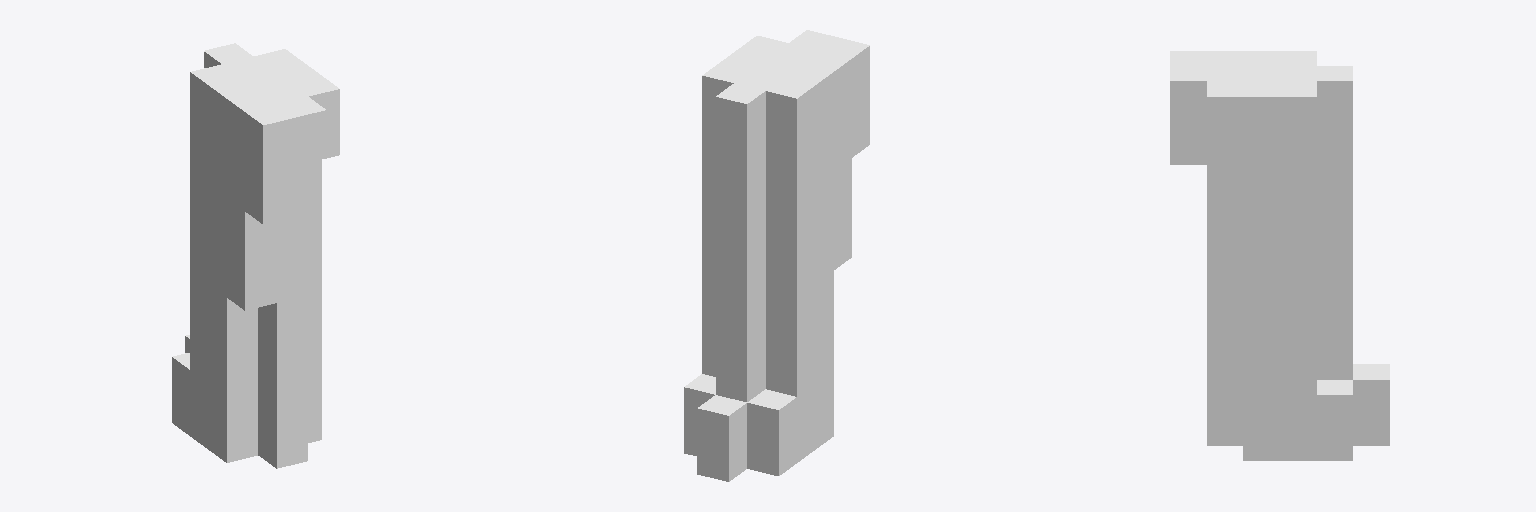
Rendered from Bernard_Leg_Back_Left_Lower.obj.
3 renders of one model, left to right at view 1: azimuth 30°, elevation 25°; view 2: azimuth 150°, elevation 25°; view 3: azimuth 270°, elevation 25°, orthographic.
Parts seen in each view (by area): view 1: Bernard; view 2: Bernard; view 3: Bernard.
Part boxes in pixels (x1,y1,x2,y2): Bernard: (172,43,339,468); Bernard: (684,30,869,481); Bernard: (1170,51,1389,460).
Bounding box in the file's own units: 0.3 × 1.1 × 0.6.